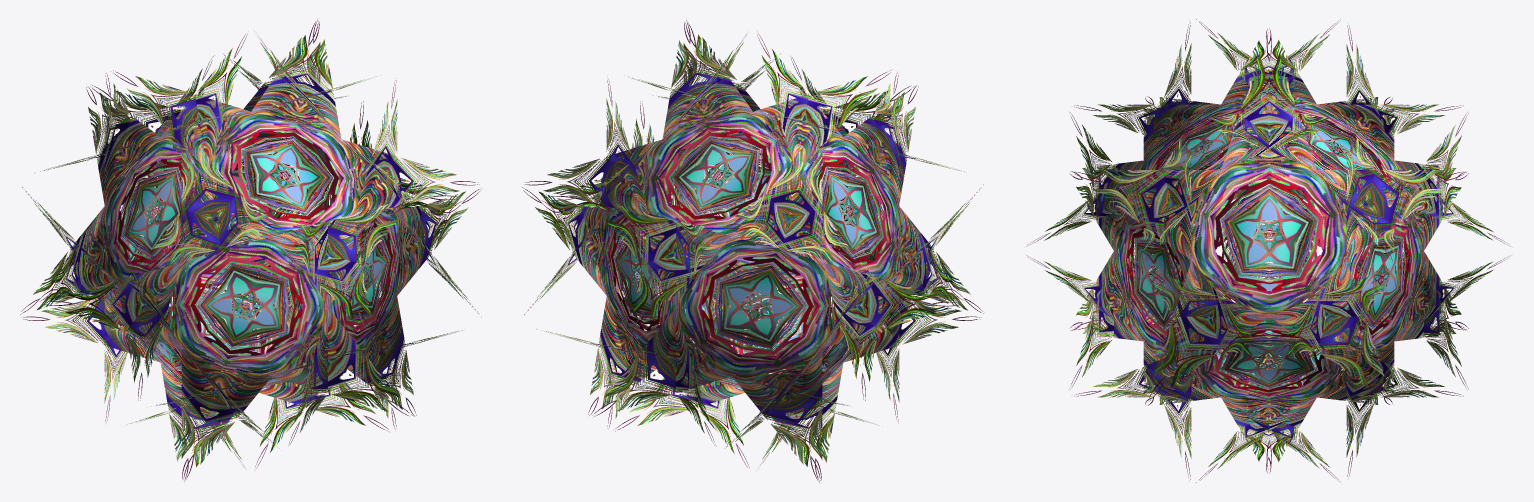
Rendered from GreatIcosidodecahedron13.gltf.
The picture shows the model from 3 angles, left to right: view 1: azimuth 30°, elevation 25°; view 2: azimuth 150°, elevation 25°; view 3: azimuth 270°, elevation 25°; orthographic projection.
Visible parts, largest first — view 1: GreatIcosidodecahedron13; view 2: GreatIcosidodecahedron13; view 3: GreatIcosidodecahedron13.
Boxes of the visible parts, x1,y1,x2,y2 form: GreatIcosidodecahedron13: (20, 19, 481, 481); GreatIcosidodecahedron13: (522, 20, 983, 482); GreatIcosidodecahedron13: (1026, 19, 1507, 482).
Size of the model in its own units: 1.24 by 1.24 by 1.24.
1 material, 1 textured.
